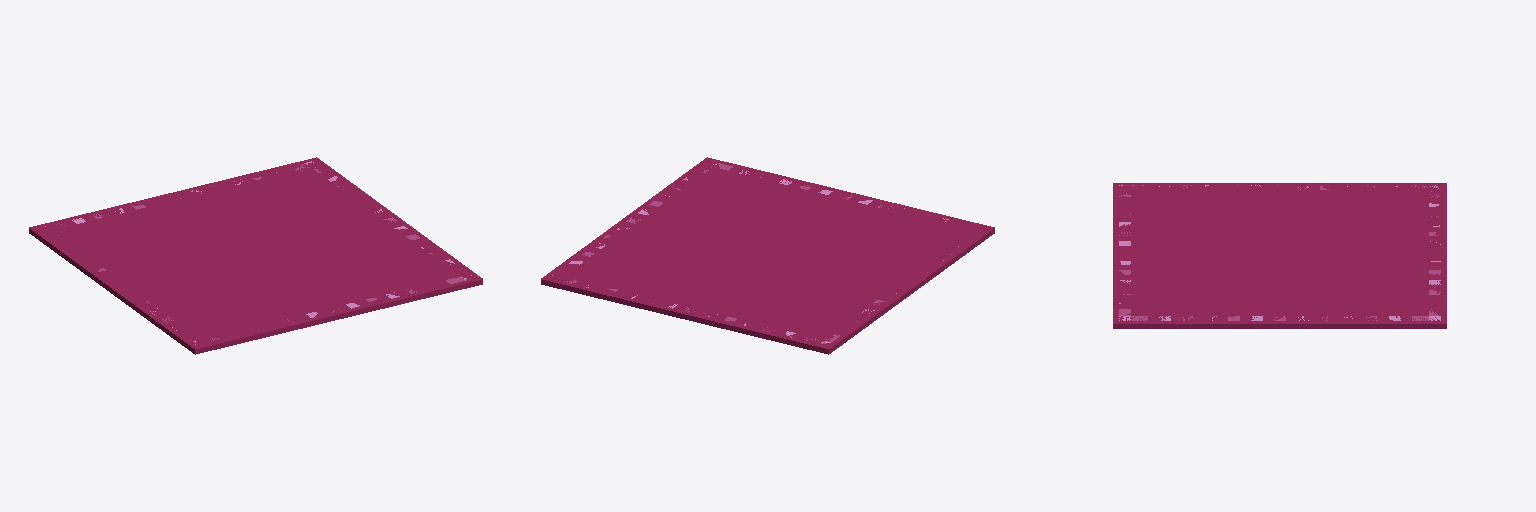
File: TeppichPink.obj
3 renders of one model, left to right at view 1: azimuth 30°, elevation 25°; view 2: azimuth 150°, elevation 25°; view 3: azimuth 270°, elevation 25°, orthographic.
Visible parts, largest first — view 1: Teppich02Pink; view 2: Teppich02Pink; view 3: Teppich02Pink.
Boxes of the visible parts, <box> form: Teppich02Pink: <box>29,157,482,354</box>; Teppich02Pink: <box>541,157,994,354</box>; Teppich02Pink: <box>1113,183,1446,328</box>.
Size of the model in its own units: 3.62 by 0.0625 by 3.62.